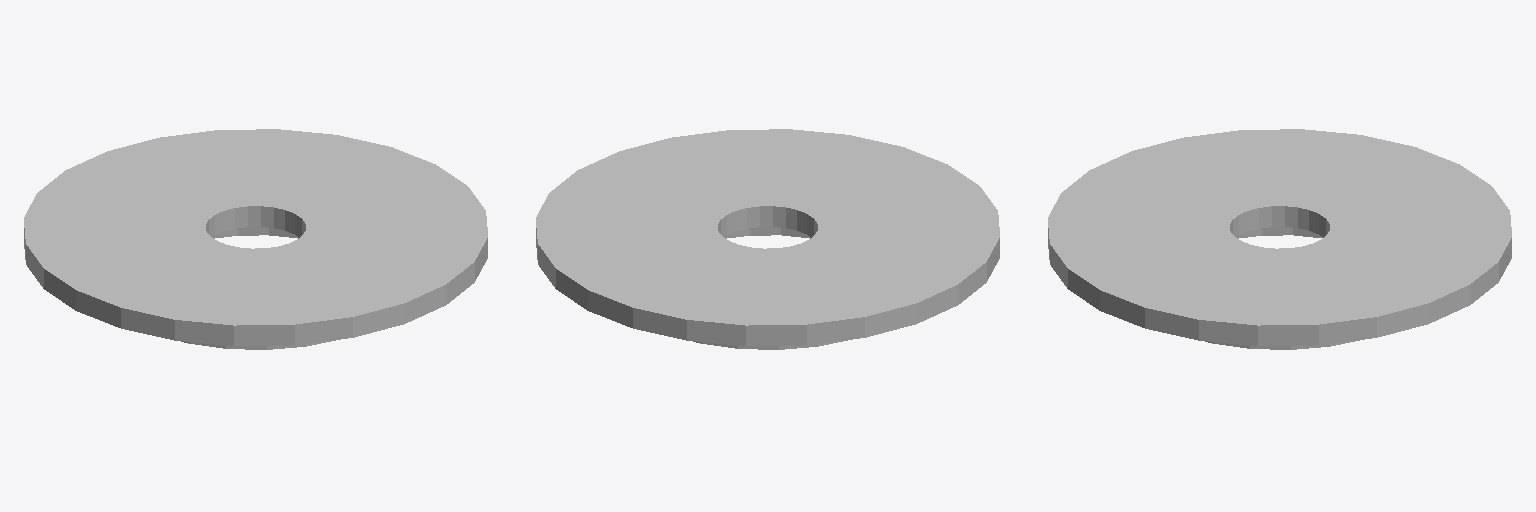
File: Knob Base.obj
3 views of the same model, side by side, from view 1: azimuth 30°, elevation 25°; view 2: azimuth 150°, elevation 25°; view 3: azimuth 270°, elevation 25° (orthographic).
Visible parts, largest first — view 1: Mesh1 Group1 Model; view 2: Mesh1 Group1 Model; view 3: Mesh1 Group1 Model.
Boxes of the visible parts, <box> form: Mesh1 Group1 Model: <box>24,129,487,349</box>; Mesh1 Group1 Model: <box>536,129,999,349</box>; Mesh1 Group1 Model: <box>1048,129,1511,349</box>.
Bounding box in the file's own units: 26.69 × 3.63 × 26.69.